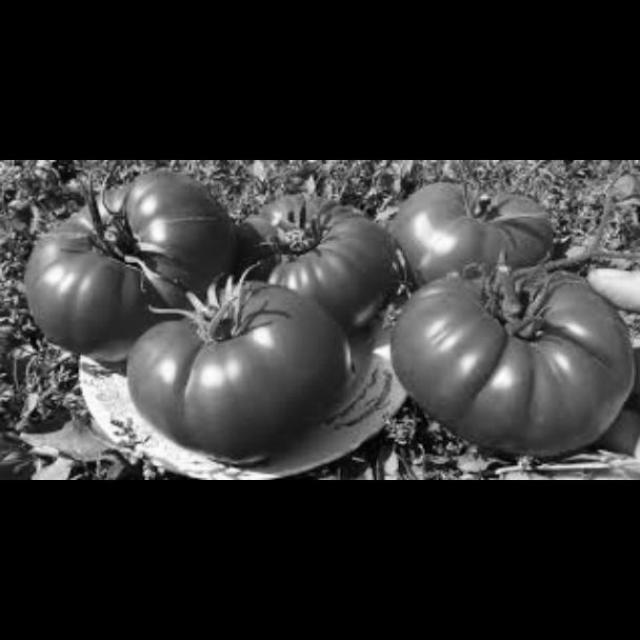ca chua: (384, 258, 633, 460), (127, 276, 355, 465), (24, 168, 242, 360), (245, 189, 397, 339), (396, 175, 558, 288)
